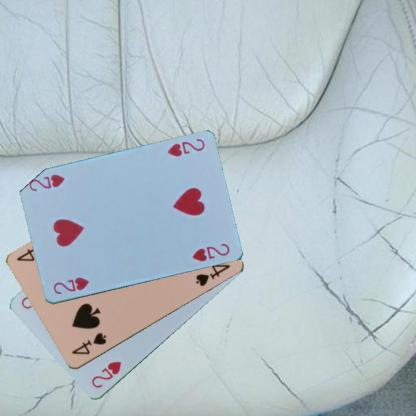2h: (88, 359, 122, 390), (164, 136, 206, 158), (51, 274, 92, 296)
4s: (69, 330, 108, 356)
